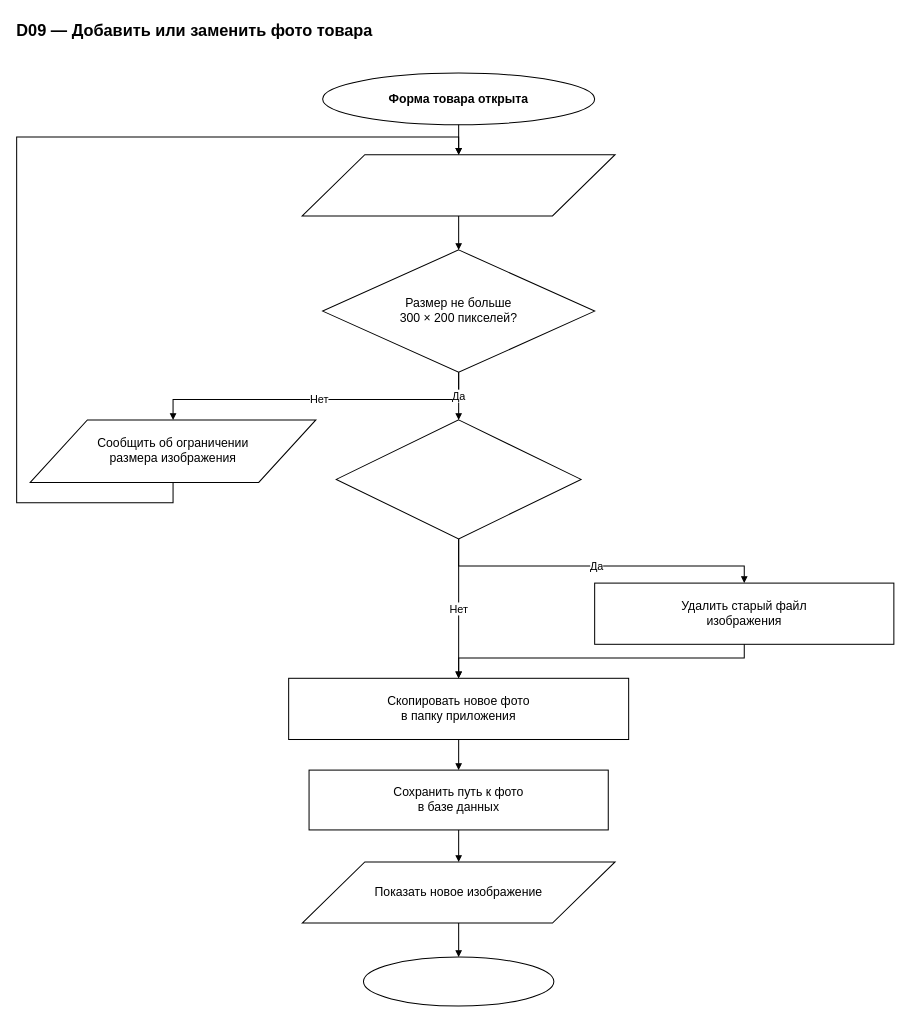
Some shapes in this 914 by 1018 pixel diagram are drawn without their labels. The shapes that lost their labels are listed below. From the top down, each one's centre as x and y in pixels, then its label:
point 458,185: Выбрать файл изображения
point 458,479: У товара уже есть фото?
point 458,981: Конец
